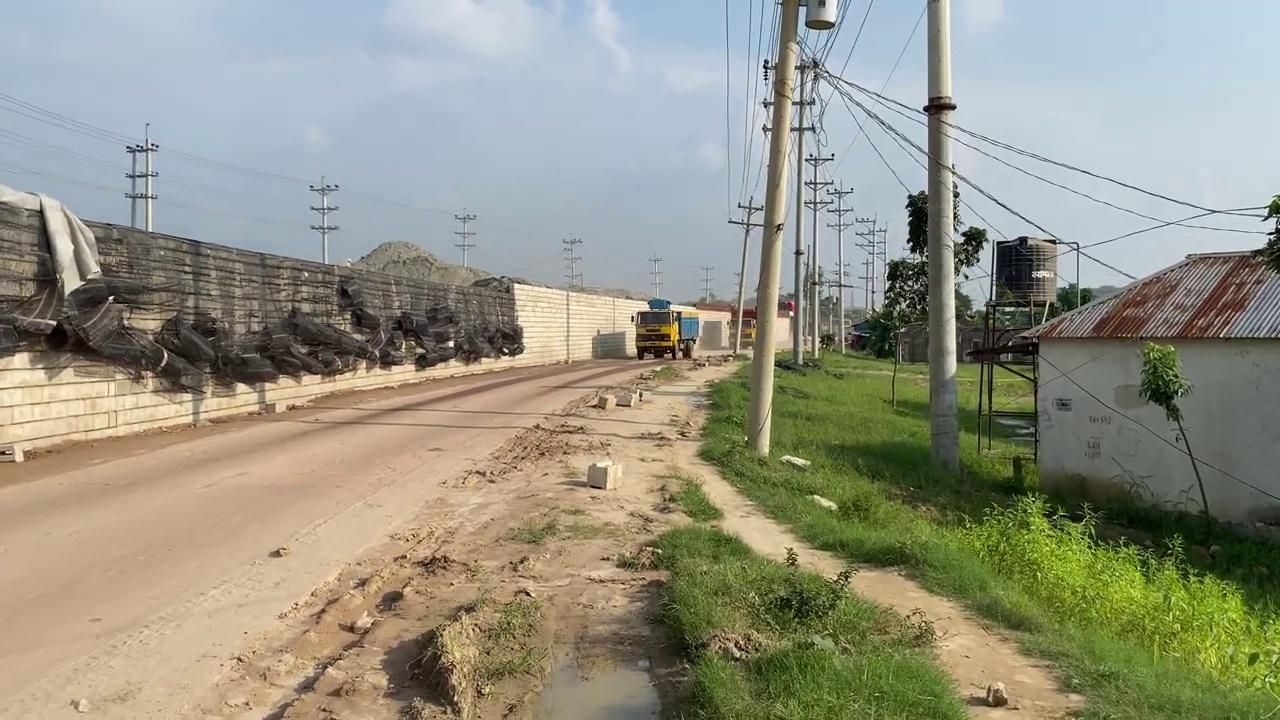Dog: (985, 681, 1008, 707)
Obstacle: (965, 235, 1061, 458), (586, 459, 622, 489)
Pole: (745, 1, 800, 458), (924, 0, 960, 475)
Rickshaw: (654, 358, 1088, 718)
Sidewalk: (530, 647, 662, 718)
Traffic-sign: (1135, 339, 1213, 537)
Tree: (631, 298, 700, 360), (729, 296, 795, 345)
Upstairs: (0, 188, 682, 454)
